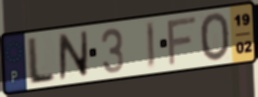3: (100, 27, 125, 75)
F: (166, 14, 199, 69)
I: (144, 19, 157, 72)
L: (26, 35, 58, 88)
N: (57, 29, 90, 82)
O: (198, 11, 232, 64)
